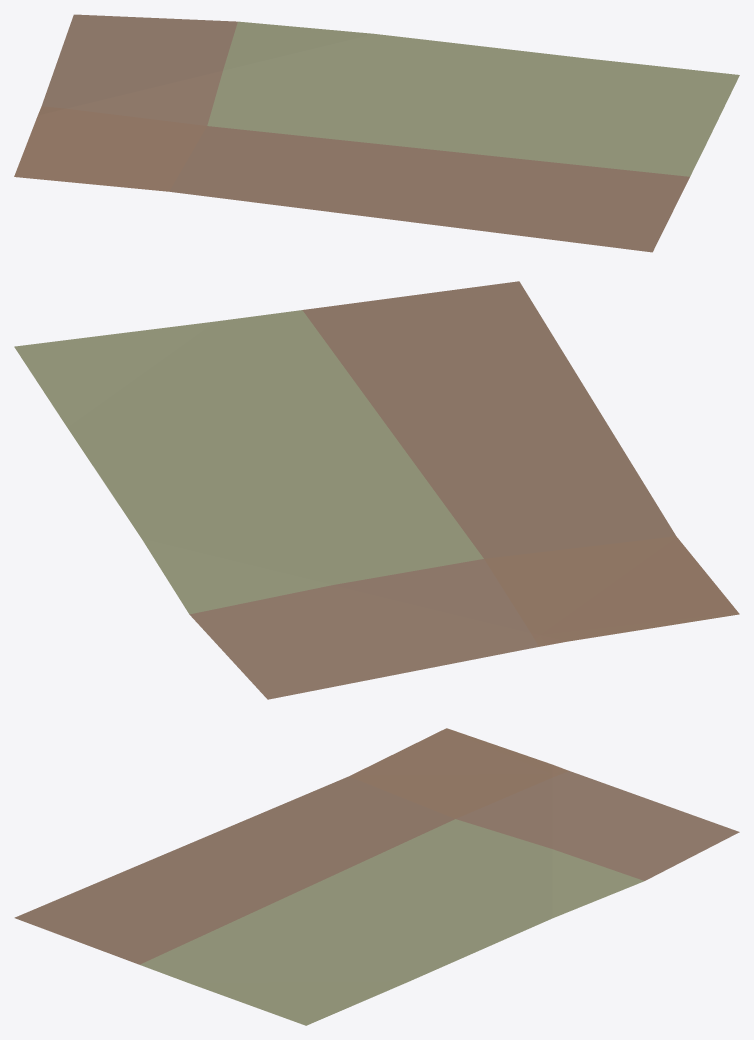
The model's file is farm_-44_-40_soil.glb.
3 views of the same model, one above another, from view 1: azimuth 30°, elevation 25°; view 2: azimuth 150°, elevation 25°; view 3: azimuth 270°, elevation 25° (orthographic). The views are drawn at different scales.
Visible parts, largest first — view 1: geometry_0; view 2: geometry_0; view 3: geometry_0.
Part boxes in pixels (left/top/right/bottom): geometry_0: left=14, top=14, right=739, bottom=252; geometry_0: left=14, top=281, right=739, bottom=699; geometry_0: left=14, top=728, right=739, bottom=1025.
Size of the model in its own units: 115 by 0.9714 by 119.
